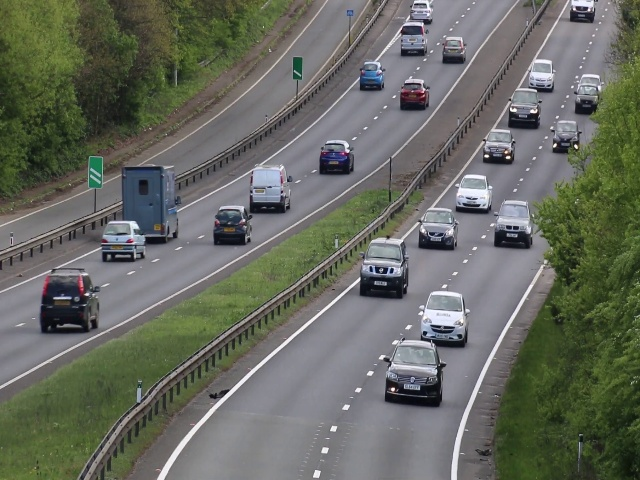car: (121, 163, 181, 241), (383, 338, 443, 407), (41, 267, 100, 334), (359, 236, 410, 297), (419, 290, 468, 347), (247, 163, 291, 214), (98, 220, 146, 263), (495, 200, 532, 248), (419, 207, 459, 250), (212, 204, 252, 245), (509, 86, 541, 131), (457, 173, 491, 215), (317, 139, 355, 176), (483, 127, 514, 168), (551, 118, 580, 155), (398, 21, 429, 55), (399, 78, 429, 111), (529, 56, 553, 94), (358, 59, 384, 92), (574, 84, 600, 115), (442, 35, 467, 64), (569, 1, 595, 24), (410, 1, 434, 25)
